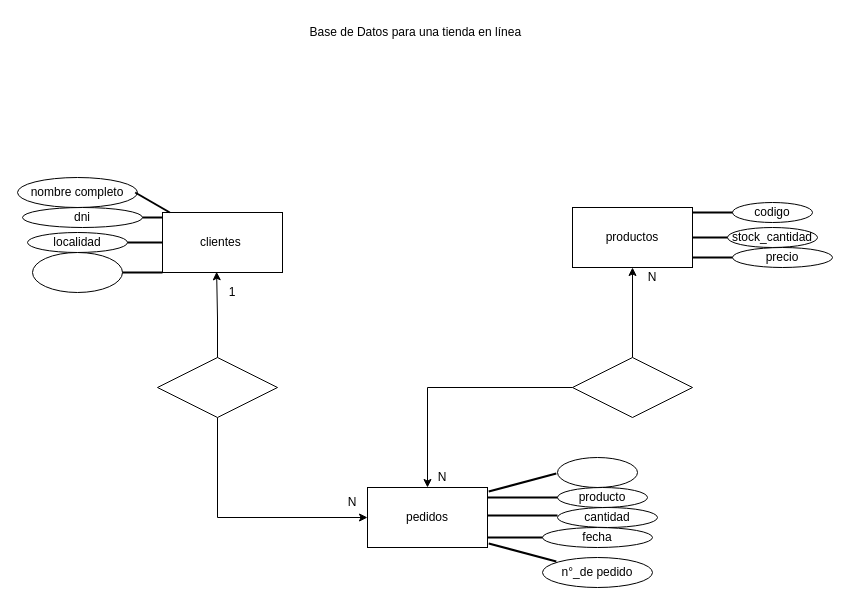
Some shapes in this 850 by 605 pixel diagram are drawn without their labels. The shapes that lost their labels are listed below. From the top down, each one's centre as x and y in pixels, then its label:
At [77,272]: "medio de pago".
At [217,387]: "realiza".
At [632,387]: "contienen".
At [597,472]: "cliente".
